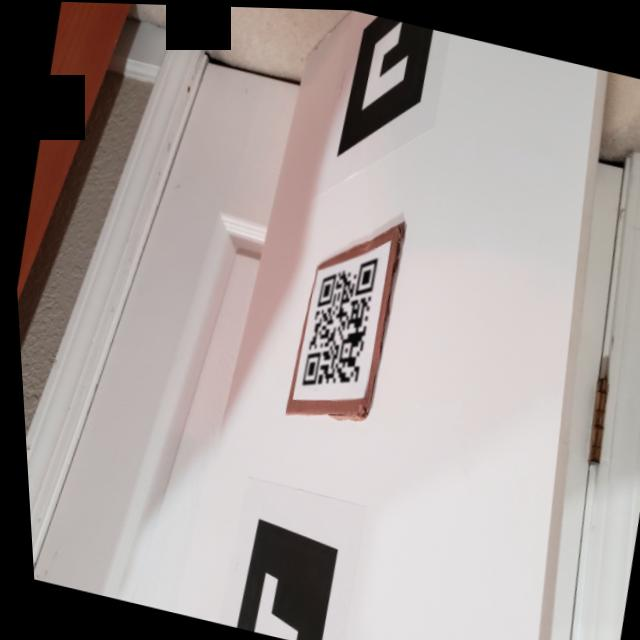QR_CODE: (285, 232, 393, 406)
